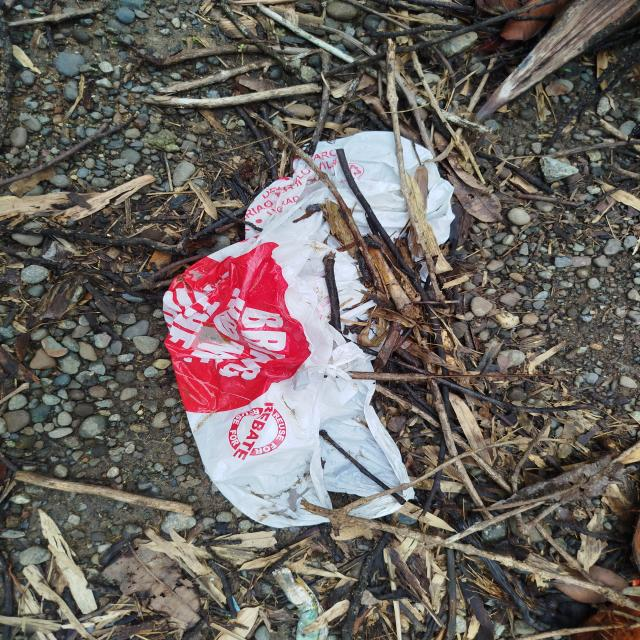residual: (147, 114, 470, 546)
